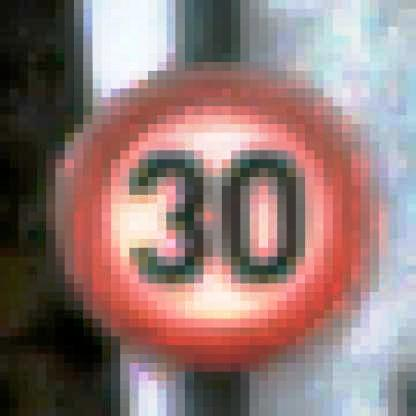Speed Limit -30-: (47, 64, 373, 374)
